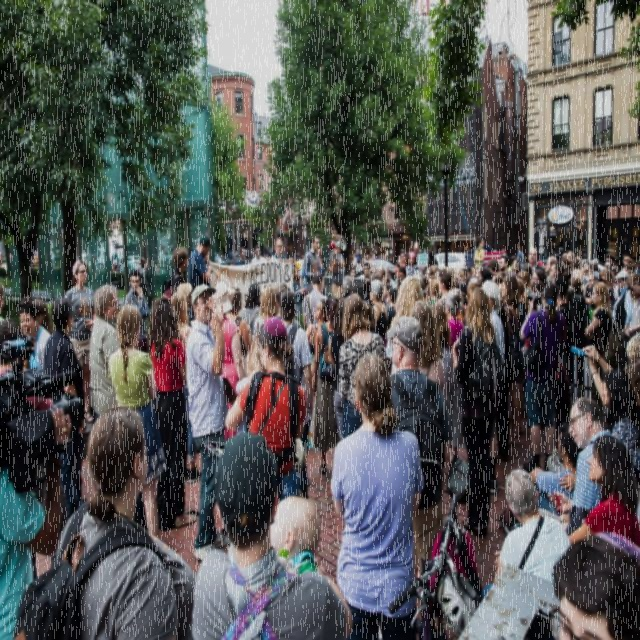pessoa: (54, 404, 202, 640), (190, 431, 354, 639), (330, 350, 424, 640), (382, 314, 452, 574), (0, 404, 74, 639), (224, 314, 308, 498), (106, 302, 168, 540), (450, 286, 508, 540), (546, 342, 640, 476), (146, 292, 198, 533), (184, 282, 227, 566), (482, 467, 572, 599), (545, 528, 640, 640), (42, 295, 88, 519), (503, 421, 585, 536), (519, 282, 567, 478), (546, 394, 614, 529), (566, 432, 640, 556), (336, 292, 388, 438), (278, 289, 314, 499), (277, 287, 312, 492), (167, 290, 203, 484), (210, 280, 248, 440), (62, 258, 98, 424), (0, 315, 57, 411), (312, 294, 341, 474), (88, 283, 121, 429), (600, 367, 640, 487), (482, 278, 507, 465), (551, 270, 576, 450), (406, 298, 446, 406), (270, 494, 322, 574), (498, 282, 522, 450), (18, 298, 53, 411), (501, 272, 523, 447), (443, 288, 465, 463), (304, 297, 328, 452), (586, 280, 614, 406), (564, 248, 640, 293), (428, 299, 455, 414), (327, 296, 347, 441), (234, 348, 266, 438), (396, 241, 440, 296), (125, 268, 152, 355), (388, 274, 426, 329), (226, 285, 251, 367), (438, 262, 486, 304), (362, 248, 396, 302), (526, 246, 566, 290), (298, 234, 326, 296), (486, 254, 527, 294), (333, 274, 357, 342), (188, 233, 214, 293), (252, 283, 279, 339), (160, 245, 190, 295), (302, 270, 328, 326), (622, 331, 640, 408), (370, 278, 389, 349), (612, 270, 633, 334), (622, 272, 640, 346), (328, 233, 346, 298), (244, 282, 262, 337), (136, 256, 152, 311), (264, 236, 294, 265), (86, 256, 133, 274), (32, 298, 53, 338), (177, 282, 195, 326), (436, 267, 454, 310), (516, 278, 530, 330), (553, 225, 586, 247), (292, 265, 304, 317), (528, 278, 546, 312), (386, 286, 400, 328), (230, 246, 274, 258), (426, 278, 443, 309), (153, 243, 169, 274), (604, 268, 616, 306), (363, 302, 377, 334), (587, 270, 607, 290), (473, 238, 486, 268), (250, 244, 267, 264), (348, 258, 363, 280), (234, 246, 248, 265), (0, 281, 6, 323), (516, 246, 525, 272), (162, 285, 178, 299), (586, 262, 599, 278), (50, 248, 60, 268), (326, 260, 334, 276), (352, 252, 359, 270), (355, 247, 361, 258), (286, 244, 290, 259)
